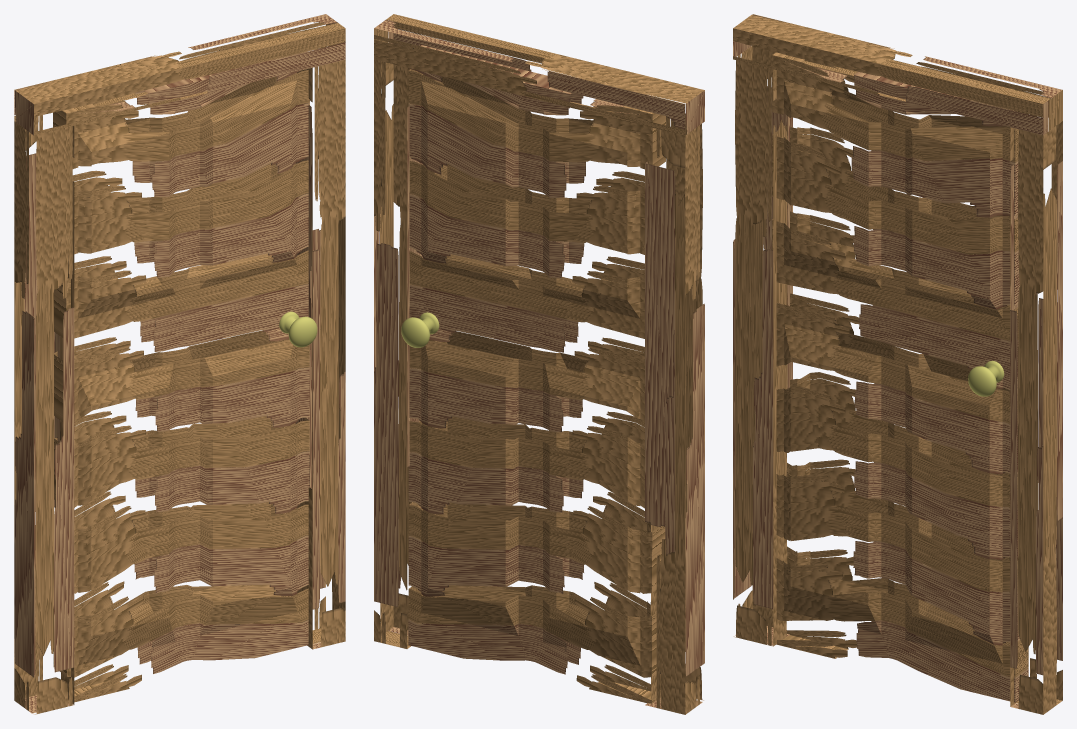
File: Door.fbx
The picture shows the model from 3 angles, left to right: view 1: azimuth 30°, elevation 25°; view 2: azimuth 150°, elevation 25°; view 3: azimuth 330°, elevation 25°; orthographic projection.
Parts seen in each view (by area): view 1: Door, Frame; view 2: Door, Frame; view 3: Door, Frame.
Boxes of the visible parts, x1,y1,x2,y2 form: Door: (53,51,317,703); Frame: (14,14,345,714); Door: (401,45,665,703); Frame: (374,14,704,714); Door: (772,52,1028,702); Frame: (733,14,1062,714).
Bounding box in the file's own units: 400 × 752 × 106.
Materials: 3 (2 with a texture image).
